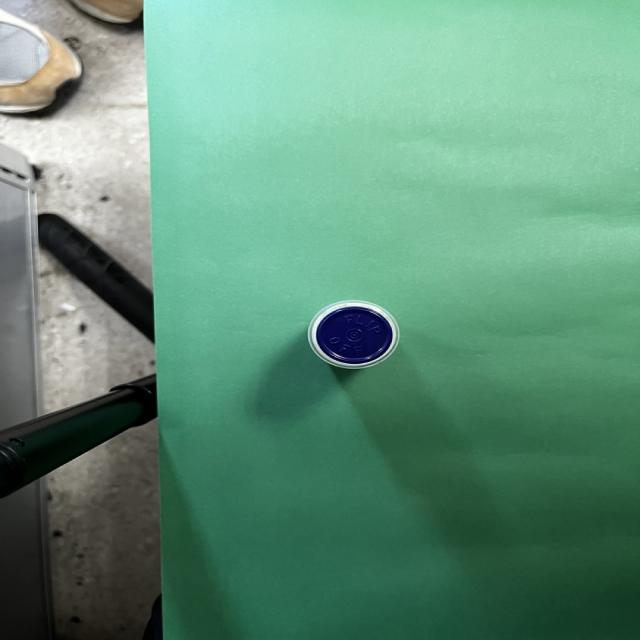Vials: (307, 302, 399, 370)
